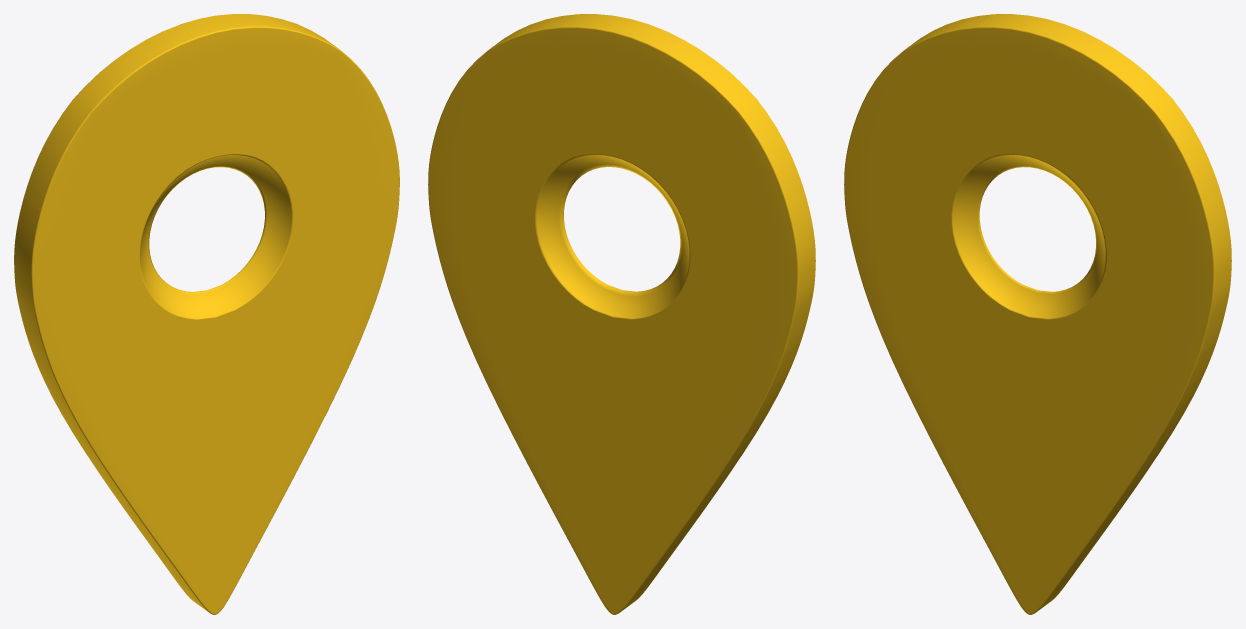
File: Yellow_marker.glb
3 views of the same model, side by side, from view 1: azimuth 30°, elevation 25°; view 2: azimuth 150°, elevation 25°; view 3: azimuth 330°, elevation 25° (orthographic).
Parts seen in each view (by area): view 1: node_id32, node_id35; view 2: node_id32, node_id35; view 3: node_id32, node_id35.
Part boxes in pixels (left/top/right/bottom): node_id32: left=14, top=14, right=399, bottom=614; node_id35: left=140, top=155, right=291, bottom=318; node_id32: left=428, top=14, right=815, bottom=614; node_id35: left=536, top=155, right=689, bottom=318; node_id32: left=844, top=14, right=1231, bottom=614; node_id35: left=953, top=155, right=1105, bottom=318.
Bounding box in the file's own units: 0.3395 × 0.512 × 0.0306.
Materials: 2 (2 with a texture image).
